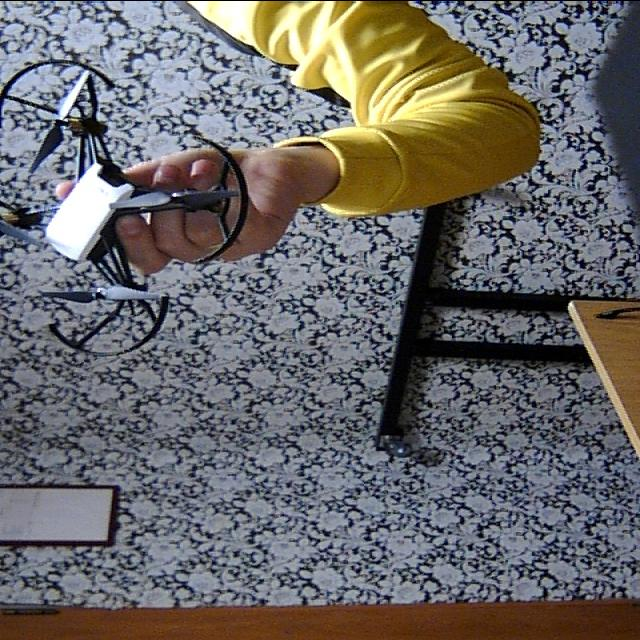drone: (0, 42, 249, 372)
